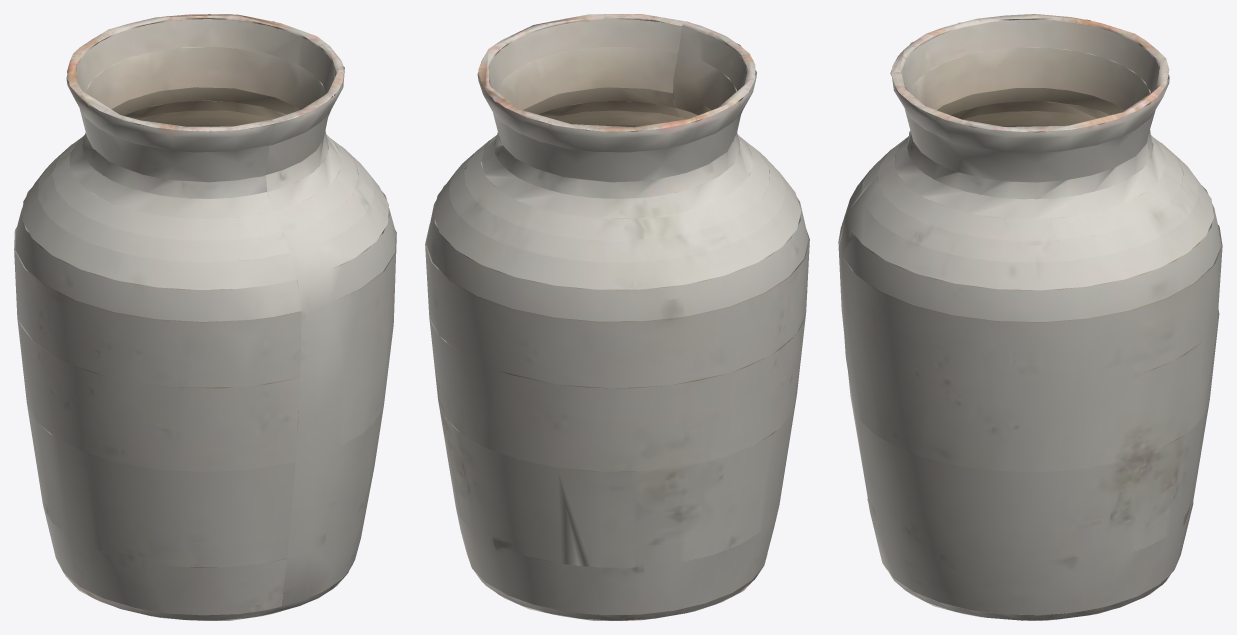
Rendered from ceramic_vase_02.glb.
The picture shows the model from 3 angles, left to right: view 1: azimuth 30°, elevation 25°; view 2: azimuth 150°, elevation 25°; view 3: azimuth 270°, elevation 25°; orthographic projection.
Parts seen in each view (by area): view 1: ceramic_vase_02; view 2: ceramic_vase_02; view 3: ceramic_vase_02.
Part boxes in pixels (<box>): ceramic_vase_02: <box>14,14,396,620</box>; ceramic_vase_02: <box>425,14,809,620</box>; ceramic_vase_02: <box>838,14,1222,620</box>.
Bounding box in the file's own units: 0.2188 × 0.3096 × 0.2191.
1 material, 1 textured.
